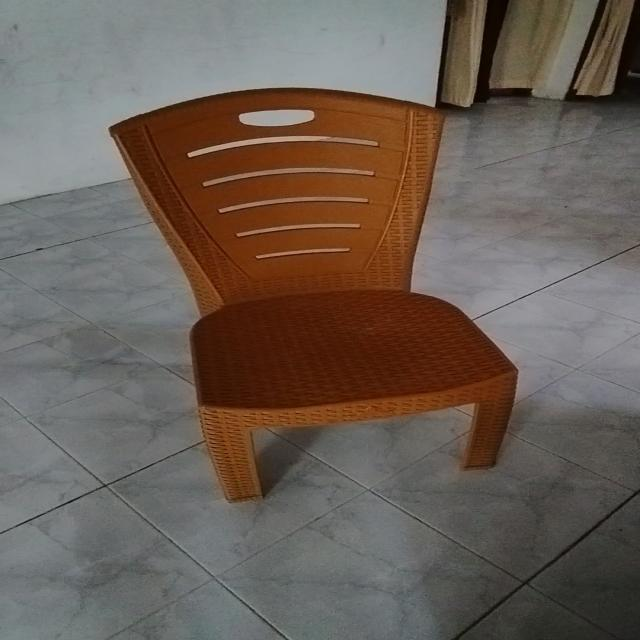chair: (112, 78, 520, 506)
